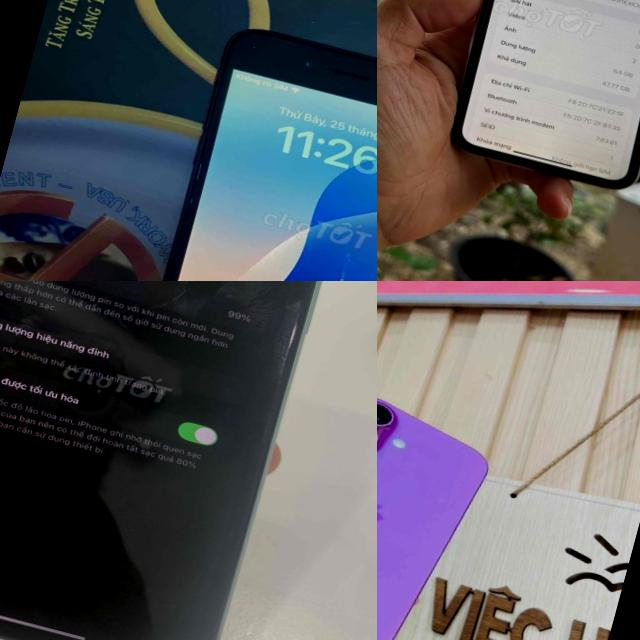gen_11: (0, 281, 365, 640)
gen_16: (377, 360, 493, 640)
gen_7_8: (123, 9, 377, 281)
gen_x_xs: (451, 0, 640, 187)
